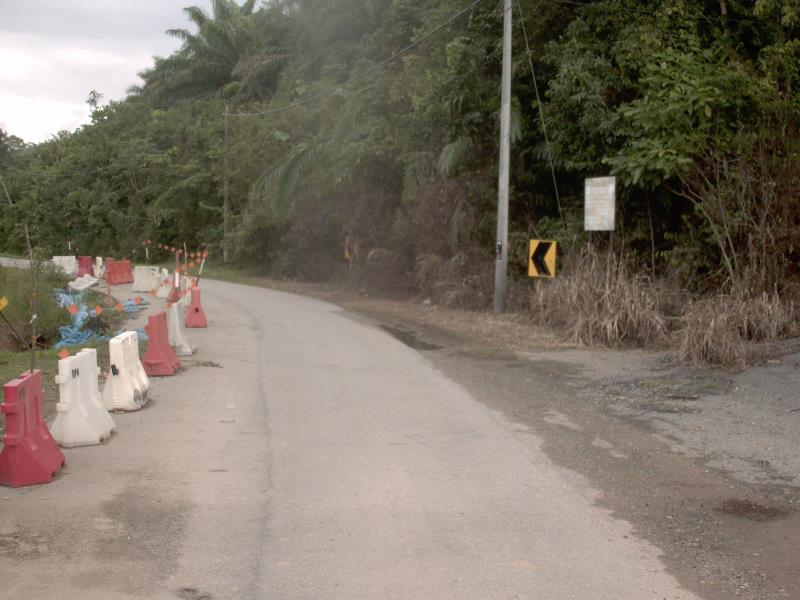traffic_sign: (520, 228, 565, 288)
